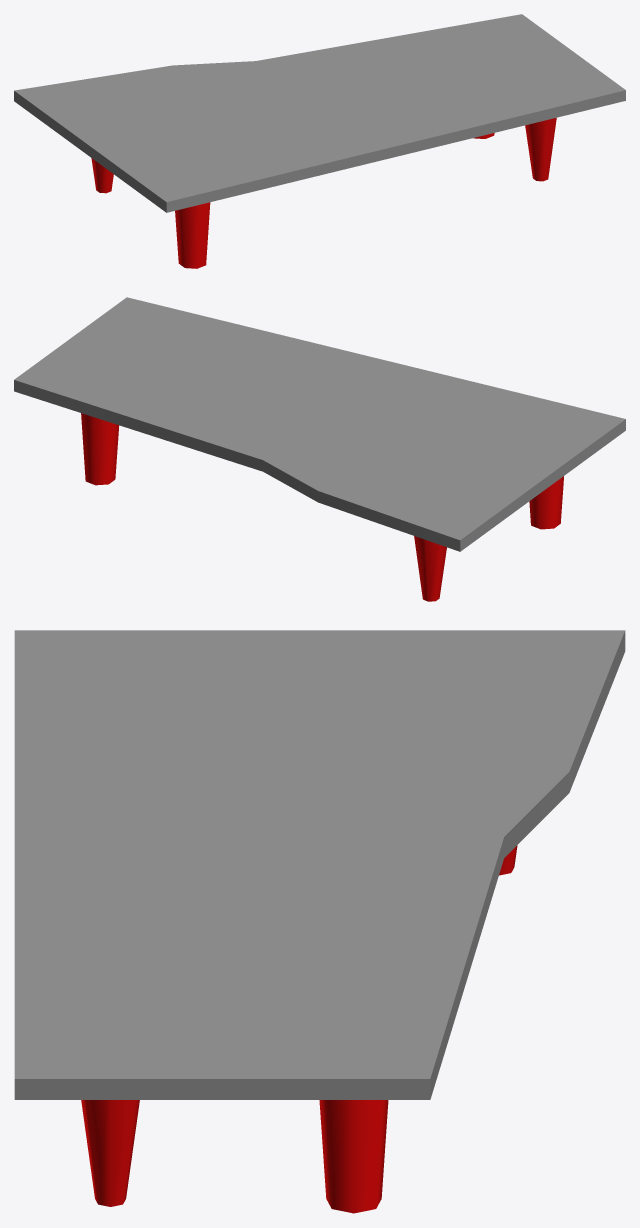
The model's file is table_kitchen.FBX.
3 renders of one model, top to bottom at view 1: azimuth 30°, elevation 25°; view 2: azimuth 150°, elevation 25°; view 3: azimuth 270°, elevation 25°, orthographic. The views are drawn at different scales.
Parts seen in each view (by area): view 1: Box027; view 2: Box027; view 3: Box027.
Boxes of the visible parts, x1,y1,x2,y2 form: Box027: (14,14,625,268); Box027: (14,297,625,601); Box027: (14,630,625,1213).
Bounding box in the file's own units: 204 × 38.41 × 117.
